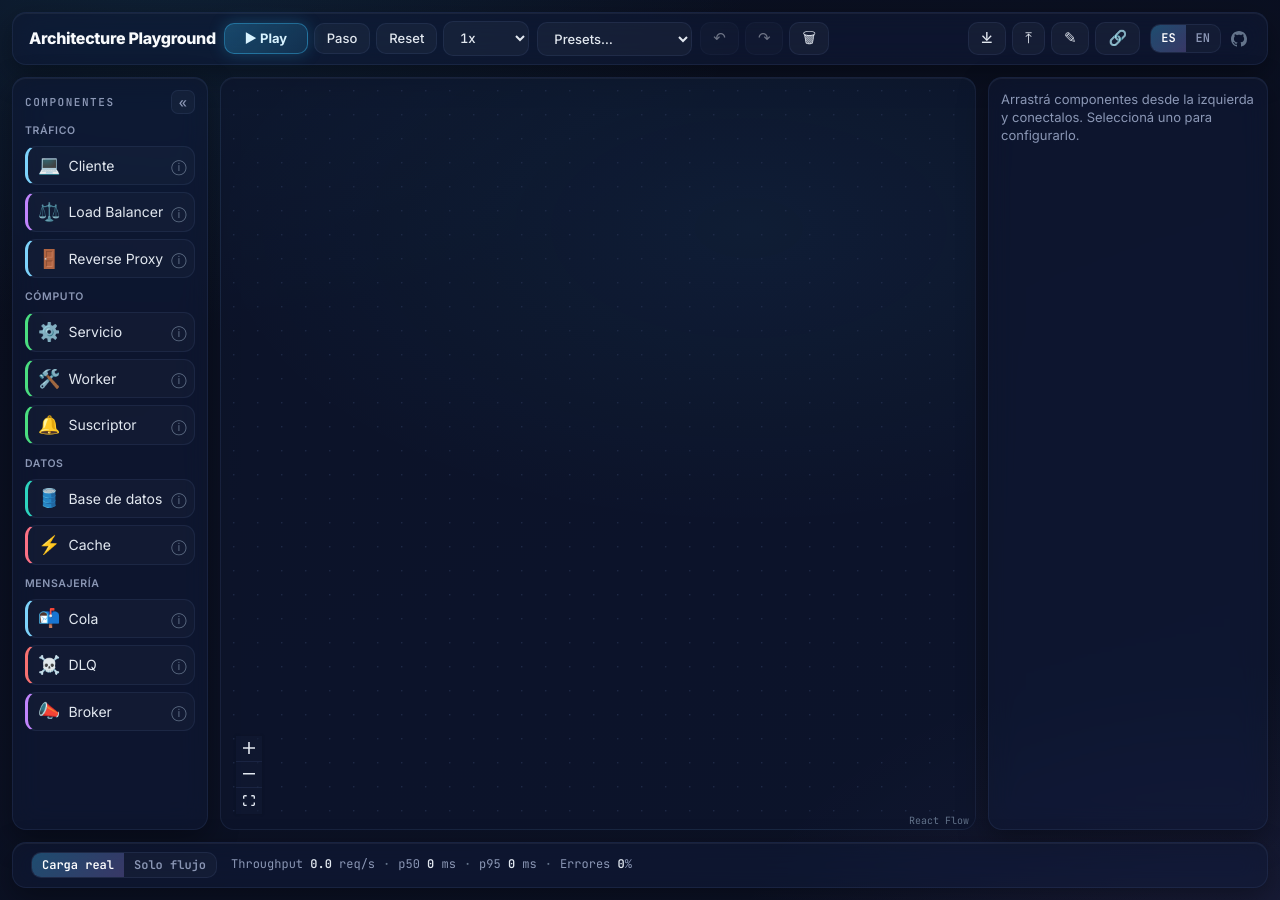
Test case: info panel › switching to EN shows the English text
Click the button "EN". click: point(1203, 38)
box: [1186, 25, 1220, 52]
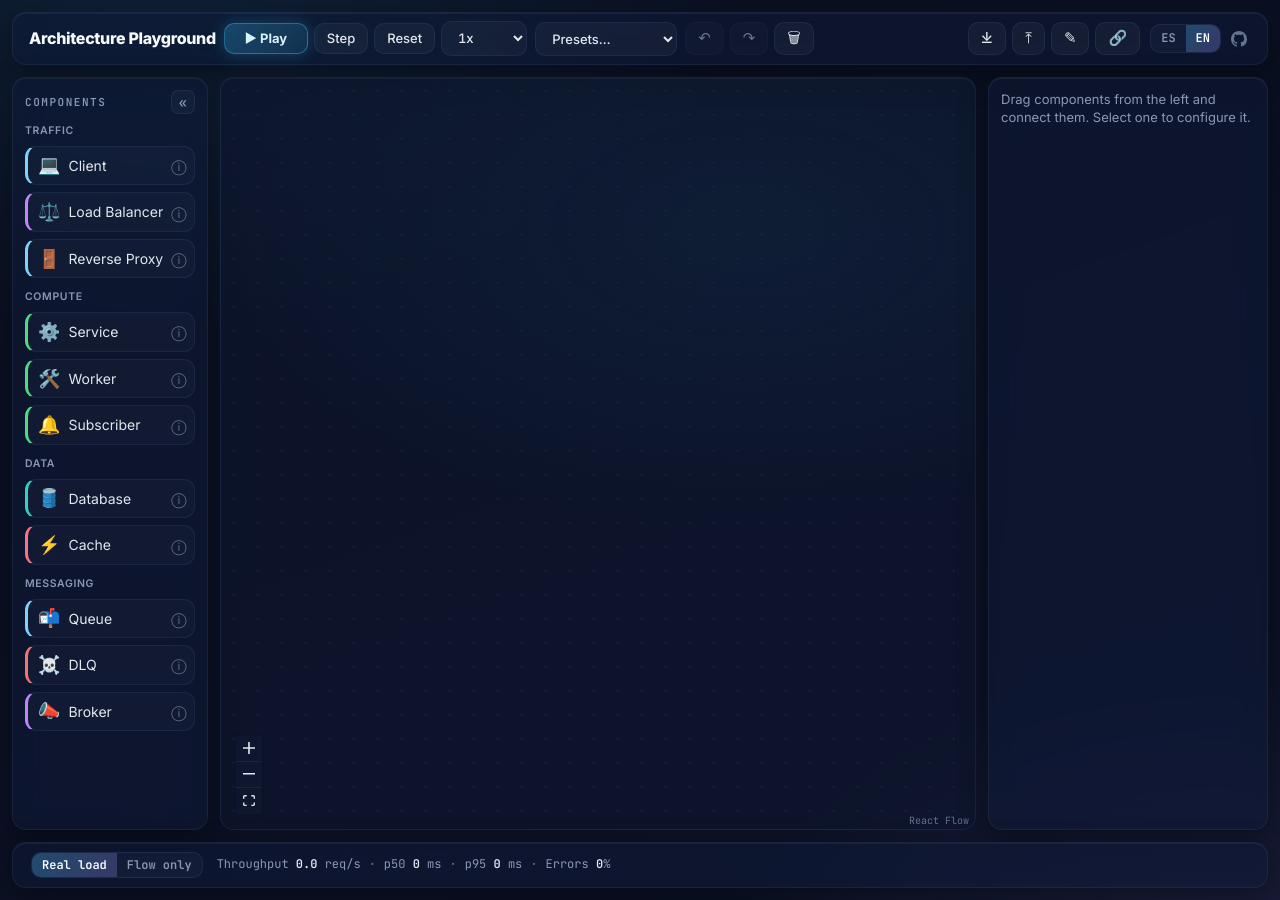
Click the button named "How Queue works". click: point(179, 618)
box: [169, 608, 189, 628]
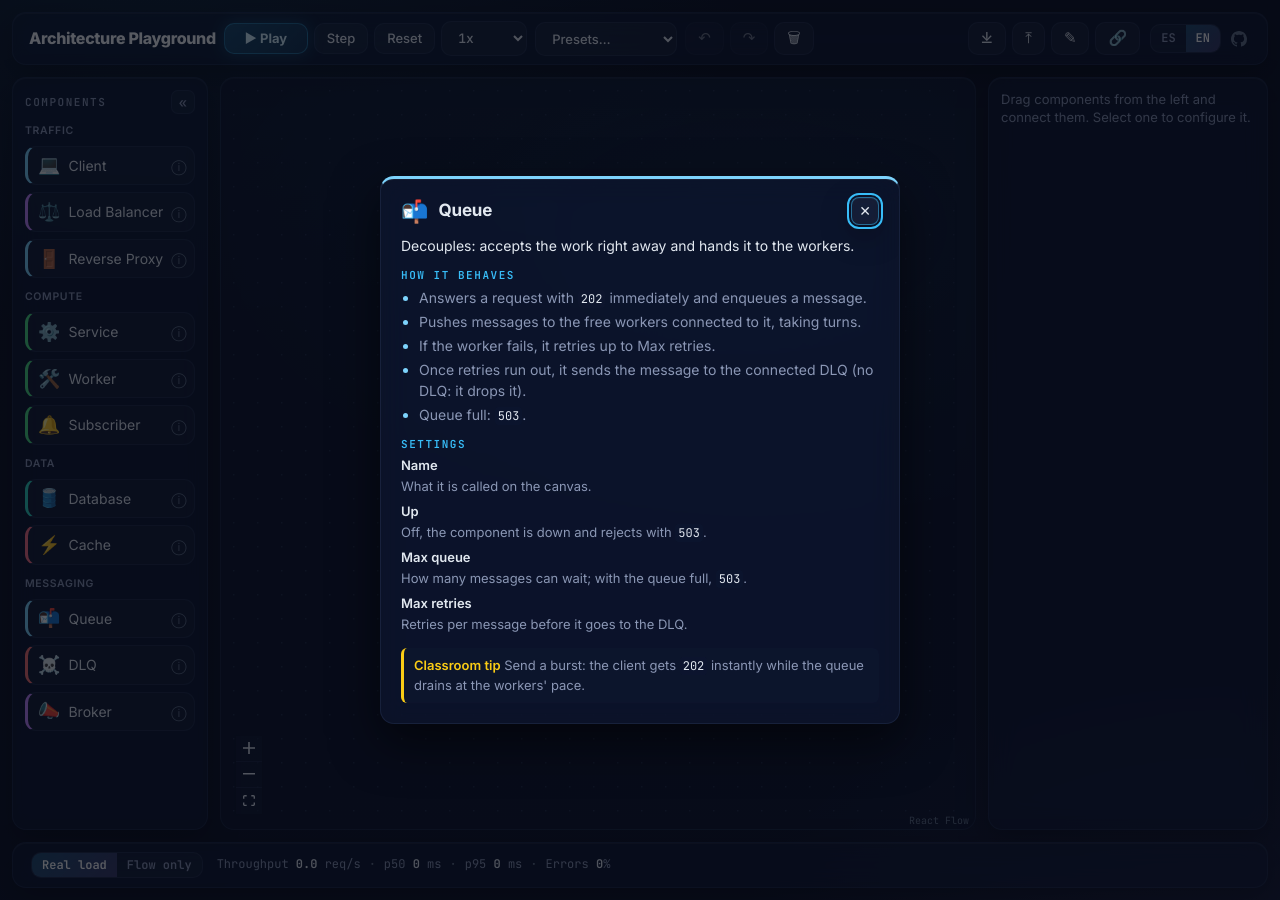
Now the text "Decouples: accepts the work right away and hands it to the workers." is shown, box [401, 235, 879, 256]
Now the text "Max retries" is shown, box [401, 595, 472, 611]
